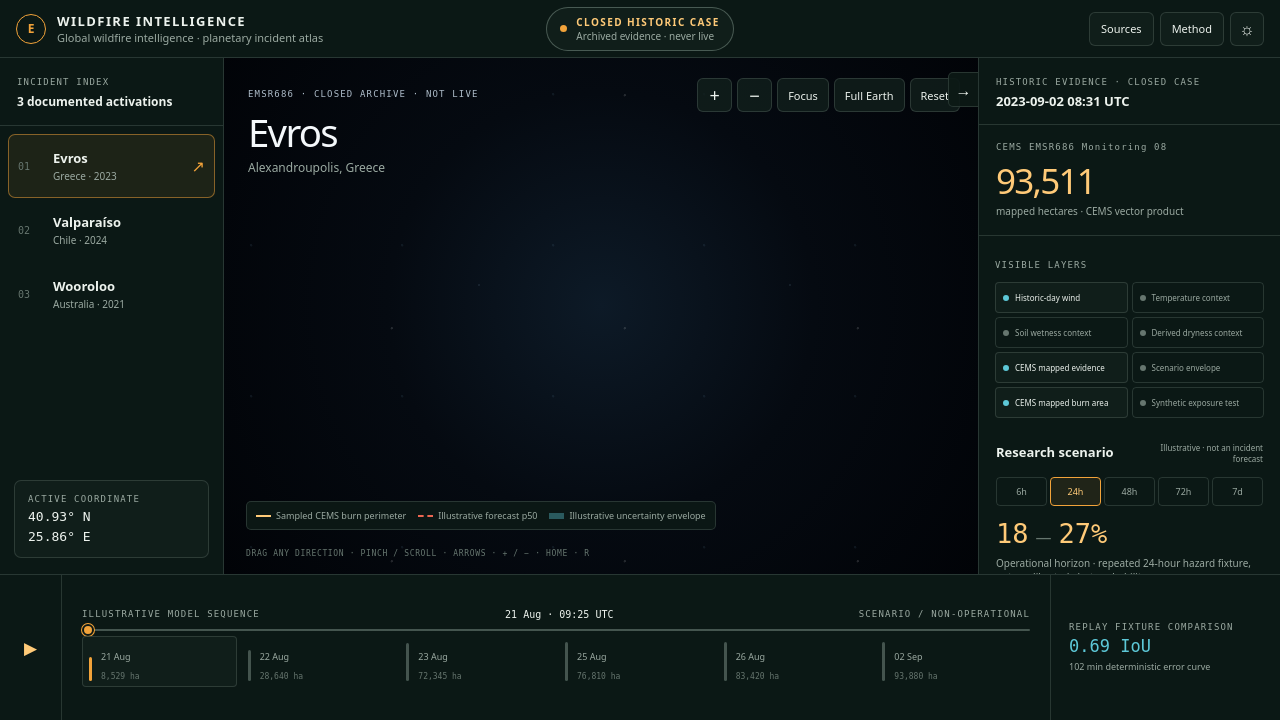
Test: wildfire dashboard controls › switches theme accessibly and persists the choice
The width and height of the screenshot is (1280, 720).
Click the button named "Switch to light theme": coordinates (1247, 28) [1230,12,1264,46]
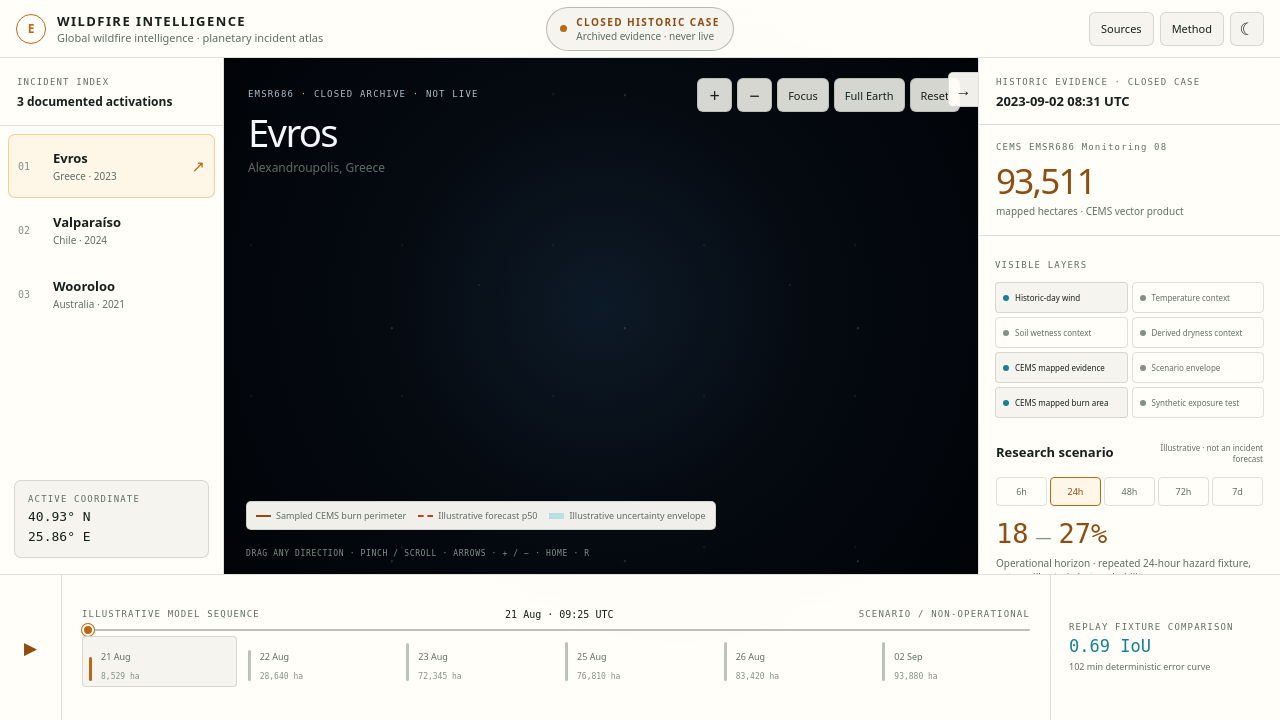
Now the button named "Switch to dark theme" is shown, box [1230,12,1264,46]
